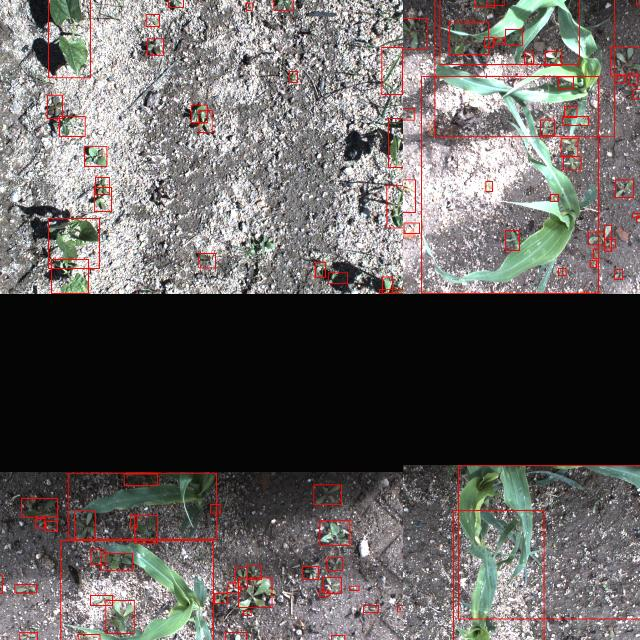crop: (420, 76, 598, 294), (457, 465, 640, 619), (434, 0, 613, 137), (60, 540, 212, 640), (452, 509, 543, 640), (67, 472, 215, 540), (439, 0, 578, 65), (48, 0, 90, 78), (48, 219, 98, 269), (51, 258, 88, 294), (388, 118, 403, 167), (386, 186, 403, 228), (58, 116, 84, 136), (382, 276, 392, 294)
weed: (448, 22, 488, 54), (237, 577, 271, 607), (105, 600, 133, 634), (381, 48, 401, 94), (609, 46, 640, 75), (403, 17, 427, 48), (319, 520, 349, 544), (21, 498, 57, 516), (74, 510, 95, 540), (134, 515, 156, 543), (100, 552, 132, 570), (313, 484, 341, 504), (84, 146, 106, 166), (93, 187, 111, 211), (123, 473, 157, 485), (403, 179, 415, 212), (46, 94, 62, 118), (190, 105, 208, 123), (615, 180, 633, 198), (560, 138, 578, 156), (198, 110, 212, 132), (504, 29, 522, 45), (323, 577, 341, 593), (505, 231, 519, 251), (147, 39, 163, 55), (198, 254, 216, 268), (562, 156, 580, 170), (234, 567, 246, 587), (95, 178, 109, 195), (562, 116, 588, 125), (540, 120, 554, 136), (545, 51, 561, 65), (302, 566, 318, 580), (90, 550, 106, 564), (90, 595, 112, 605), (327, 274, 347, 284), (247, 565, 261, 579), (588, 232, 604, 244), (326, 558, 342, 570), (273, 0, 292, 10), (224, 631, 245, 640), (14, 584, 36, 592), (145, 14, 159, 26), (404, 222, 418, 234), (558, 76, 572, 88), (315, 262, 325, 278), (604, 225, 610, 251), (564, 106, 576, 118), (474, 0, 494, 7), (77, 634, 99, 640), (215, 593, 228, 603), (19, 633, 37, 640), (403, 108, 414, 119), (628, 73, 638, 85), (227, 582, 239, 592), (45, 521, 57, 531), (167, 0, 182, 7), (210, 504, 220, 514), (379, 290, 403, 294), (524, 52, 532, 64), (362, 606, 378, 612), (483, 37, 492, 47), (486, 0, 503, 5), (130, 514, 136, 528), (289, 72, 297, 82), (632, 89, 640, 99), (614, 270, 622, 280), (604, 240, 614, 248), (36, 518, 44, 528), (330, 635, 344, 640), (617, 75, 625, 83), (558, 268, 566, 276), (550, 194, 558, 202), (592, 249, 598, 259), (486, 182, 492, 192), (318, 590, 328, 596), (396, 604, 403, 611), (245, 2, 251, 10), (590, 260, 596, 268), (494, 38, 502, 44), (242, 610, 250, 616), (348, 586, 358, 590), (631, 213, 640, 217), (635, 216, 640, 222), (584, 292, 586, 294)
